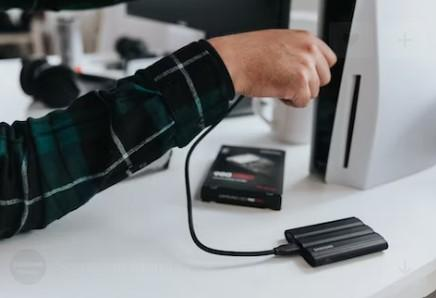HDD: (272, 217, 389, 268)
